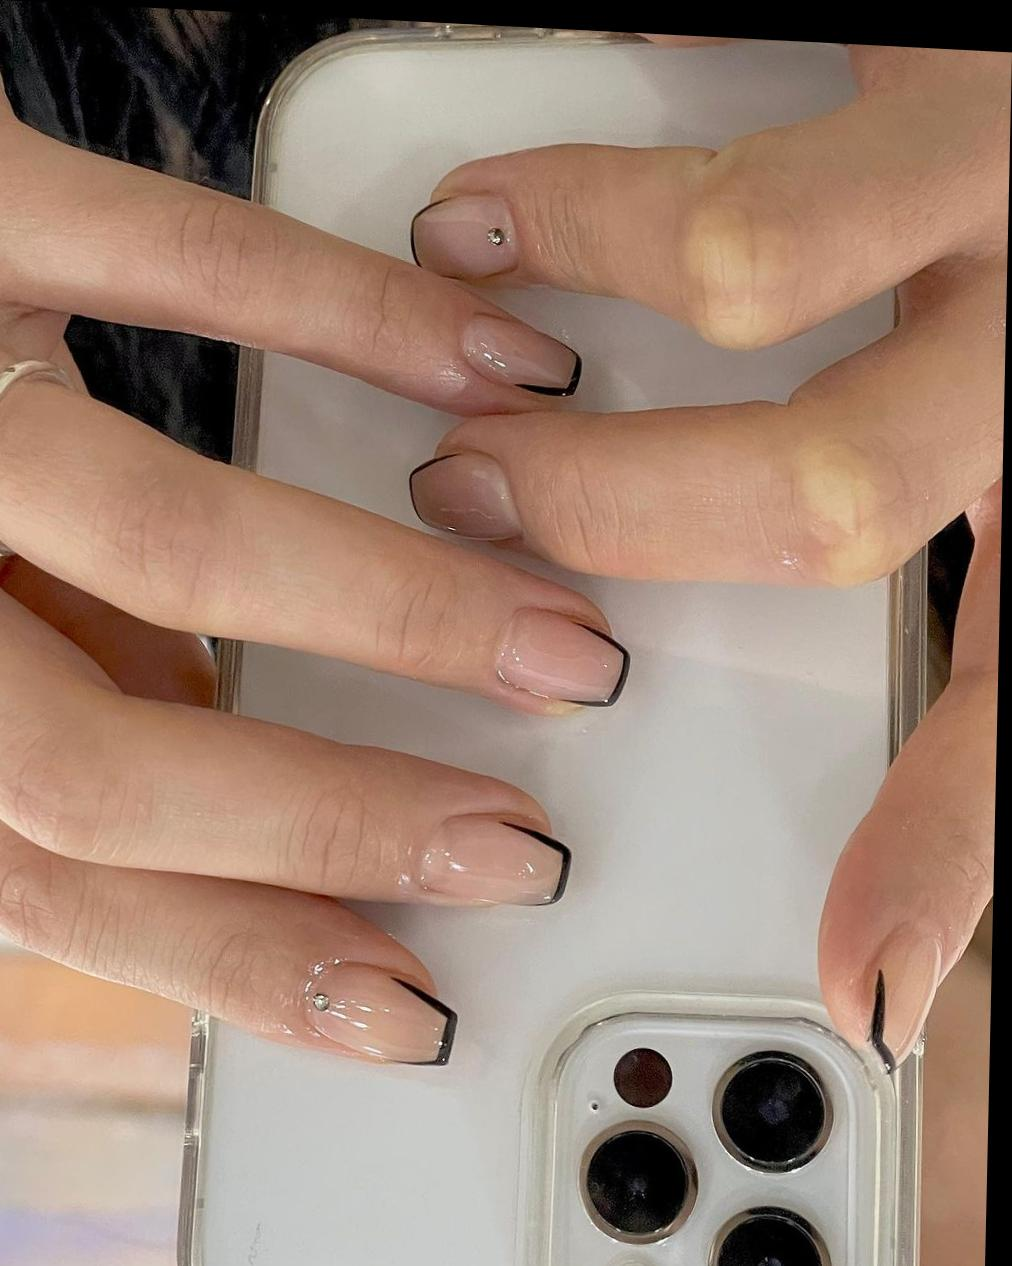nail: (298, 956, 460, 1071), (416, 811, 571, 912), (493, 605, 631, 710), (407, 448, 524, 544), (458, 310, 582, 400), (408, 189, 521, 286), (866, 924, 941, 1072)
